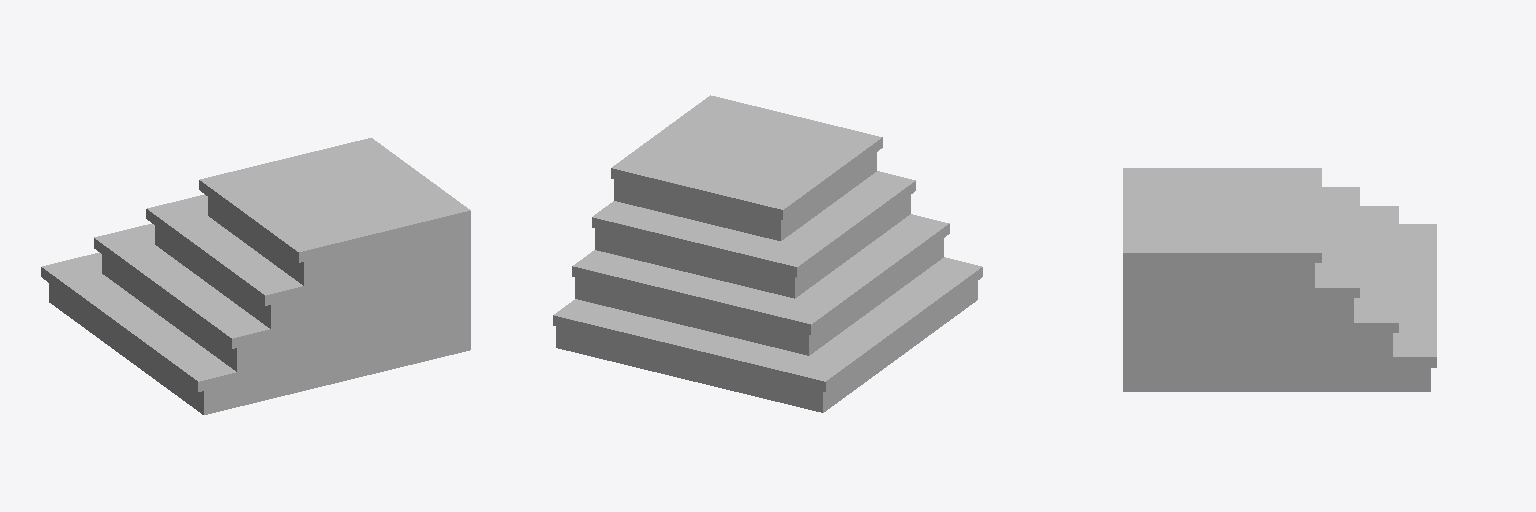
File: stairsFullCornerOuter.obj
3 renders of one model, left to right at view 1: azimuth 30°, elevation 25°; view 2: azimuth 150°, elevation 25°; view 3: azimuth 270°, elevation 25°, orthographic.
Visible parts, largest first — view 1: stairsFullCornerOuter; view 2: stairsFullCornerOuter; view 3: stairsFullCornerOuter.
Part boxes in pixels (x1,y1,x2,y2): stairsFullCornerOuter: (41, 138, 470, 414); stairsFullCornerOuter: (553, 95, 982, 412); stairsFullCornerOuter: (1123, 168, 1436, 391).
Bounding box in the file's own units: 1.02 × 0.5 × 1.02.